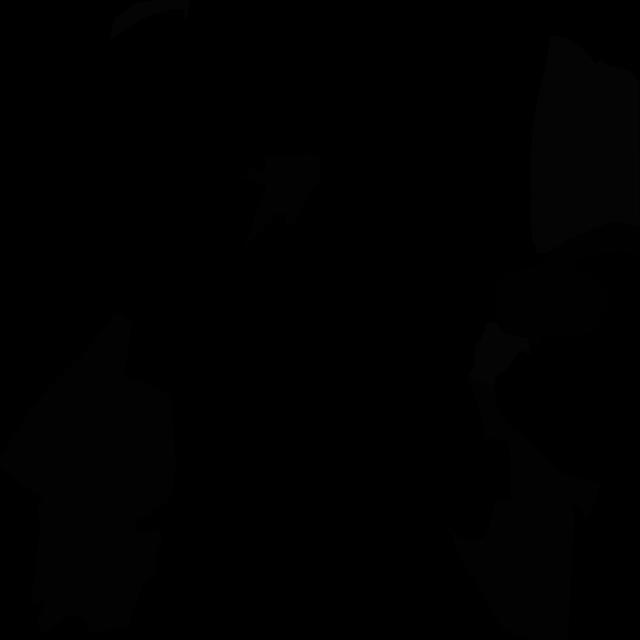cardboard: (0, 310, 176, 531), (467, 376, 601, 518), (32, 497, 162, 633), (450, 500, 575, 640), (243, 153, 322, 249)
rigid_plastic: (494, 221, 640, 354)
soft_plastic: (530, 35, 640, 253), (467, 321, 531, 387), (110, 0, 191, 39)
